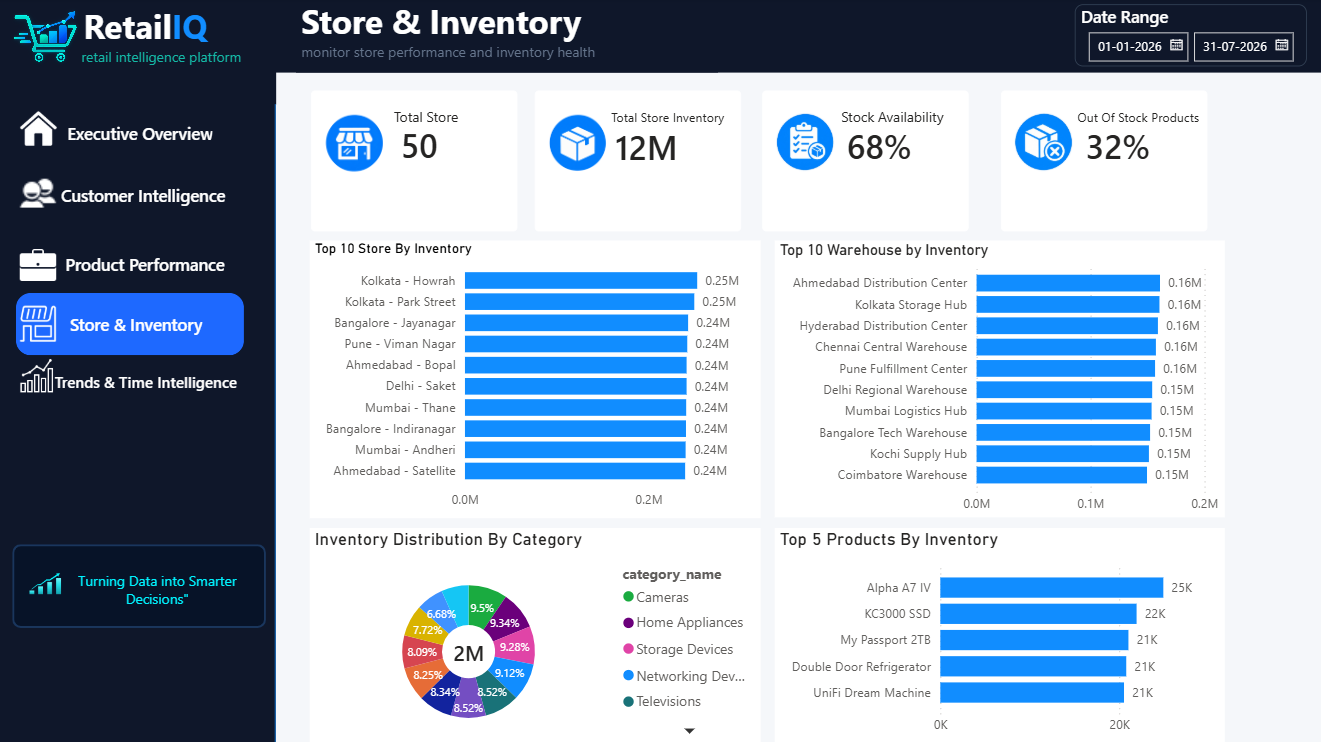

This screenshot's page, from the dashboard's own definition file:
{"tool":"powerbi","page":{"name":"Store & inventory","canvas":[1280,720],"ordinal":3},"visuals":[{"type":"shape","box":[0,0,270,720],"z":0},{"type":"shape","box":[270,0,1010,72],"z":1000},{"type":"textbox","box":[0,0,270.2,102.7],"z":2000},{"type":"image","box":[0,1.2,99,72],"z":3000},{"type":"textbox","box":[289.8,0,407.2,72.1],"z":4000},{"type":"slicer","title":"Date Range","fields":{"Values":["DateTable.Date"]},"box":[1040.6,6.1,224,60],"z":5000},{"type":"actionButton","box":[15,100,220,60],"z":6000},{"type":"image","box":[20,109,40,35],"z":7000},{"type":"actionButton","box":[14.7,161,220,60],"z":8000},{"type":"actionButton","box":[19.6,227,220,60],"z":9000},{"type":"actionButton","box":[19.6,285,220,60],"z":10000},{"type":"actionButton","box":[16,340,228,60],"z":11000},{"type":"image","box":[20,170,40,35],"z":12000},{"type":"image","box":[20,240,40,35],"z":13000},{"type":"image","box":[20,297,40,35],"z":14000},{"type":"image","box":[20,346,40,35],"z":15000},{"type":"shape","box":[15.7,527.2,244.9,80.8],"z":16000},{"type":"image","box":[22,529,50,75],"z":17000},{"type":"cardVisual","fields":{"Data":["RetailIQ_Measures.Total stores"]},"box":[304,89.3,199,136],"z":18000},{"type":"image","box":[304,88.1,83.2,102.5],"z":19000},{"type":"textbox","box":[379,100,115,31],"z":20000},{"type":"cardVisual","fields":{"Data":["RetailIQ_Measures.Total Store Inventory"]},"box":[520,89,199,136],"z":21000},{"type":"image","box":[520,88.1,83.2,102.5],"z":22000},{"type":"textbox","box":[589,100,120,31],"z":23000},{"type":"cardVisual","fields":{"Data":["RetailIQ_Measures.instock %"]},"box":[739.5,89,199,136],"z":24000},{"type":"image","box":[739.5,88,83.2,102.5],"z":25000},{"type":"textbox","box":[811,100,120,31],"z":26000},{"type":"cardVisual","fields":{"Data":["RetailIQ_Measures.Out Of stock"]},"box":[969.6,89,199,136],"z":27000},{"type":"image","box":[969.6,88,83.2,102.5],"z":28000},{"type":"textbox","box":[1039,100,129,31],"z":29000},{"type":"clusteredBarChart","title":"Top 10 Store By Inventory","fields":{"Category":["retailiq store.store_location"],"Y":["Sum(retailiq store_inventory.quantity)"]},"box":[302.9,234.3,435,268],"z":30000},{"type":"clusteredBarChart","title":"Top 10 Warehouse by Inventory","fields":{"Category":["retailiq warehouse.warehouse_name"],"Y":["RetailIQ_Measures.Total Warehouse Quanity"]},"box":[752.1,234,434,267],"z":31000},{"type":"donutChart","title":"Inventory Distribution By Category","fields":{"Category":["retailiq category.category_name"],"Y":["RetailIQ_Measures.Total Warehouse Quanity"]},"box":[302.9,511.3,435,208.4],"z":32000},{"type":"clusteredBarChart","title":"Top 5 Products By Inventory","fields":{"Category":["retailiq product.model"],"Y":["RetailIQ_Measures.Total Warehouse Quanity"]},"box":[752,511,434,208],"z":33000}]}

Visuals, with their boxes on the page's 1280x720 design canvas (x1, y1, x2, y2). These are canvas units, not pixel positions in the 1321x742 screenshot, which may show the page scaled, cropped or inside an application window:
shape: crop(0, 0, 270, 720)
shape: crop(270, 0, 1280, 72)
textbox: crop(0, 0, 270, 103)
image: crop(0, 1, 99, 73)
textbox: crop(290, 0, 697, 72)
"Date Range" slicer: crop(1041, 6, 1265, 66)
actionButton: crop(15, 100, 235, 160)
image: crop(20, 109, 60, 144)
actionButton: crop(15, 161, 235, 221)
actionButton: crop(20, 227, 240, 287)
actionButton: crop(20, 285, 240, 345)
actionButton: crop(16, 340, 244, 400)
image: crop(20, 170, 60, 205)
image: crop(20, 240, 60, 275)
image: crop(20, 297, 60, 332)
image: crop(20, 346, 60, 381)
shape: crop(16, 527, 261, 608)
image: crop(22, 529, 72, 604)
cardVisual - RetailIQ_Measures.Total stores: crop(304, 89, 503, 225)
image: crop(304, 88, 387, 191)
textbox: crop(379, 100, 494, 131)
cardVisual - RetailIQ_Measures.Total Store Inventory: crop(520, 89, 719, 225)
image: crop(520, 88, 603, 191)
textbox: crop(589, 100, 709, 131)
cardVisual - RetailIQ_Measures.instock %: crop(740, 89, 938, 225)
image: crop(740, 88, 823, 190)
textbox: crop(811, 100, 931, 131)
cardVisual - RetailIQ_Measures.Out Of stock: crop(970, 89, 1169, 225)
image: crop(970, 88, 1053, 190)
textbox: crop(1039, 100, 1168, 131)
"Top 10 Store By Inventory" clusteredBarChart: crop(303, 234, 738, 502)
"Top 10 Warehouse by Inventory" clusteredBarChart: crop(752, 234, 1186, 501)
"Inventory Distribution By Category" donutChart: crop(303, 511, 738, 720)
"Top 5 Products By Inventory" clusteredBarChart: crop(752, 511, 1186, 719)
